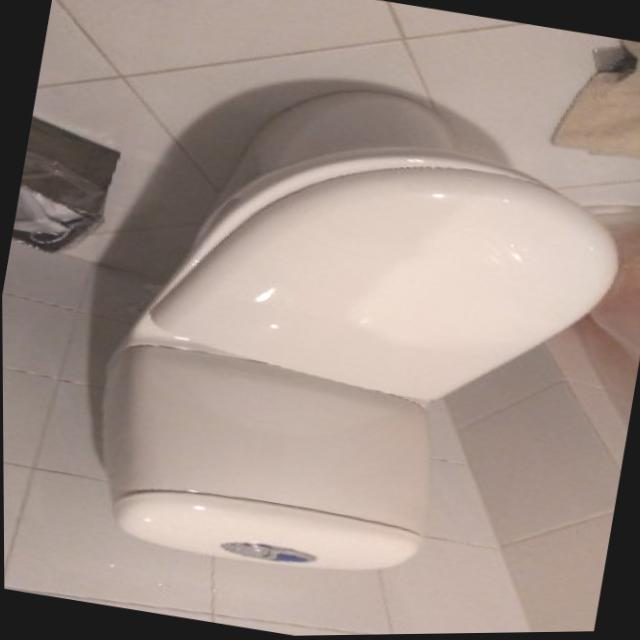toilet: (70, 51, 640, 621)
